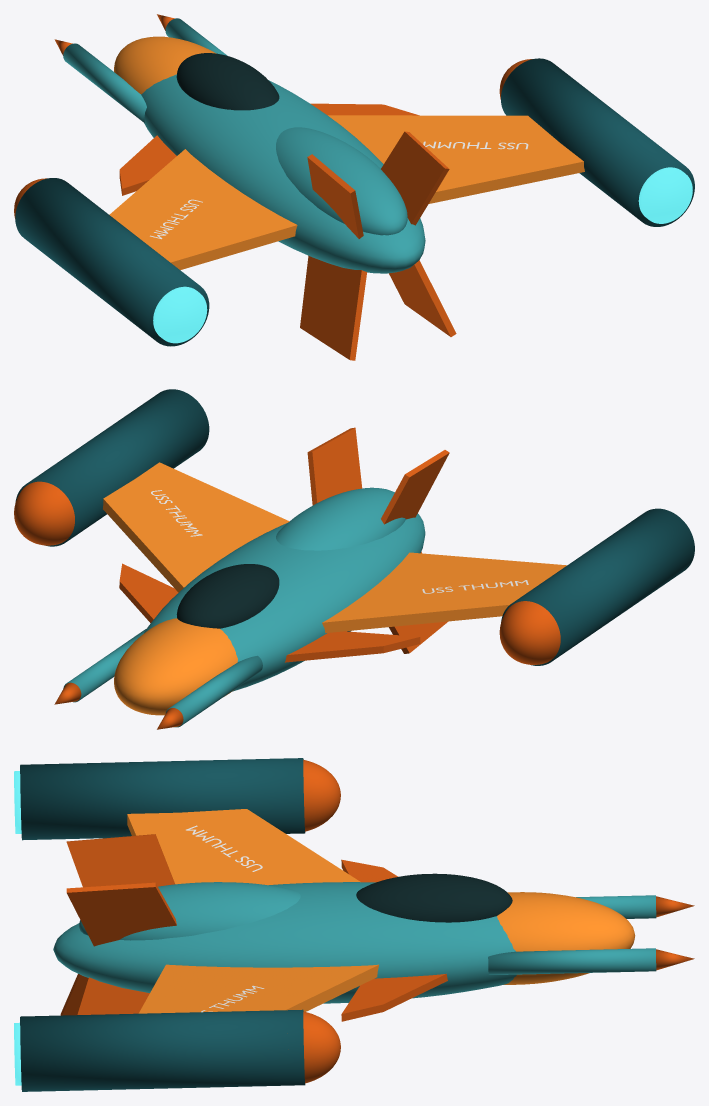
The model's file is ship.glb.
The picture shows the model from 3 angles, top to bottom: view 1: azimuth 30°, elevation 25°; view 2: azimuth 150°, elevation 25°; view 3: azimuth 270°, elevation 25°; orthographic projection. The views are drawn at different scales.
Parts seen in each view (by area): view 1: Fuselage, NacelleL, WingR, NacelleR, WingL, Dorsal, FinBottomL, Canopy, FinR, NoseAccent, ThrusterL, ThrusterR (+6 smaller); view 2: Fuselage, WingR, NacelleL, WingL, NacelleR, NoseAccent, Dorsal, Canopy, NacelleCapL, NacelleCapR, FinR, SubWingL (+5 smaller); view 3: Fuselage, NacelleR, NacelleL, WingL, WingR, NoseAccent, Dorsal, Canopy, FinR, FinL, ProngR, SubWingR (+6 smaller).
Boxes of the visible parts, left/top/right/bottom form: Fuselage: left=141, top=74, right=425, bottom=273; NacelleL: left=15, top=178, right=209, bottom=346; WingR: left=328, top=115, right=584, bottom=203; NacelleR: left=501, top=58, right=694, bottom=226; WingL: left=109, top=149, right=297, bottom=269; Dorsal: left=276, top=127, right=407, bottom=235; FinBottomL: left=300, top=255, right=367, bottom=360; Canopy: left=176, top=53, right=279, bottom=110; FinR: left=381, top=131, right=449, bottom=225; NoseAccent: left=114, top=36, right=216, bottom=94; ThrusterL: left=153, top=286, right=207, bottom=343; ThrusterR: left=638, top=167, right=692, bottom=223; Fuselage: left=144, top=513, right=425, bottom=691; WingR: left=103, top=462, right=289, bottom=592; NacelleL: left=501, top=508, right=694, bottom=665; WingL: left=322, top=552, right=566, bottom=633; NacelleR: left=15, top=389, right=209, bottom=546; NoseAccent: left=114, top=618, right=237, bottom=715; Dorsal: left=276, top=487, right=405, bottom=550; Canopy: left=176, top=564, right=279, bottom=628; NacelleCapL: left=499, top=601, right=560, bottom=664; NacelleCapR: left=14, top=481, right=74, bottom=545; FinR: left=307, top=427, right=362, bottom=505; SubWingL: left=285, top=631, right=420, bottom=662; Fuselage: left=53, top=882, right=516, bottom=1003; NacelleR: left=20, top=1009, right=305, bottom=1091; NacelleL: left=20, top=758, right=305, bottom=840; WingL: left=127, top=809, right=360, bottom=885; WingR: left=138, top=964, right=378, bottom=1013; NoseAccent: left=497, top=892, right=635, bottom=984; Dorsal: left=79, top=882, right=300, bottom=940; Canopy: left=356, top=873, right=512, bottom=922; FinR: left=66, top=882, right=176, bottom=946; FinL: left=66, top=834, right=174, bottom=887; ProngR: left=488, top=948, right=656, bottom=974; SubWingR: left=341, top=973, right=447, bottom=1021.
Size of the model in its own units: 7.7 by 2.38 by 7.79.
